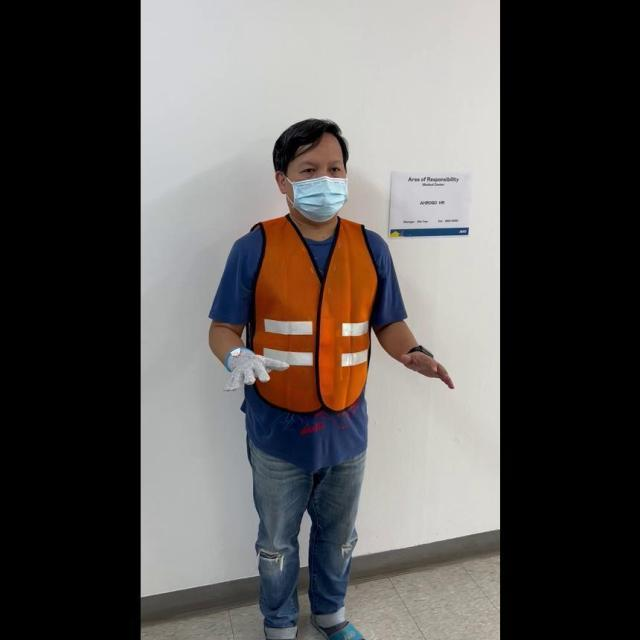bare_hand: (399, 343, 454, 391)
gloved_hand: (224, 339, 289, 390)
